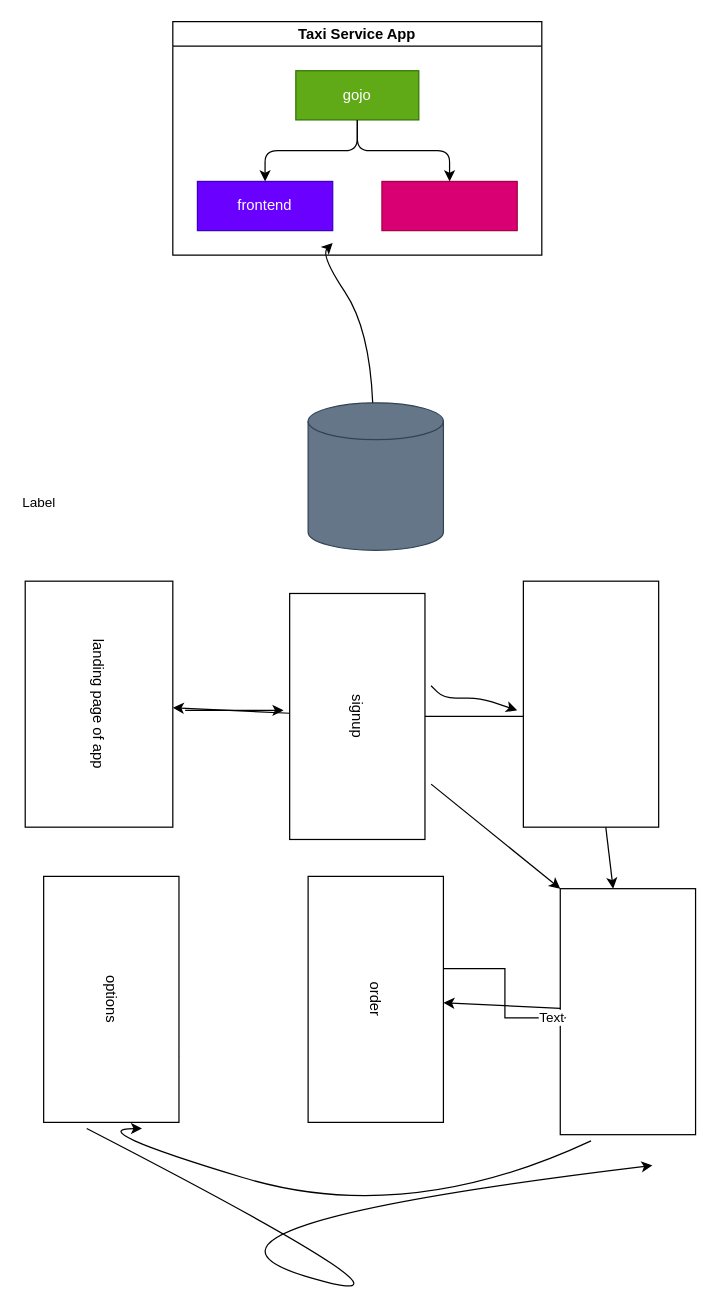
Some shapes in this 717 by 1307 pixel diagram are drawn without their labels. Here are the shapes that lost their labels. From the top down, the centre of each, then its label:
At point (449, 205): "backend".
At point (375, 476): "database".
At point (590, 703): "sgnin".
At point (627, 1011): "home".
